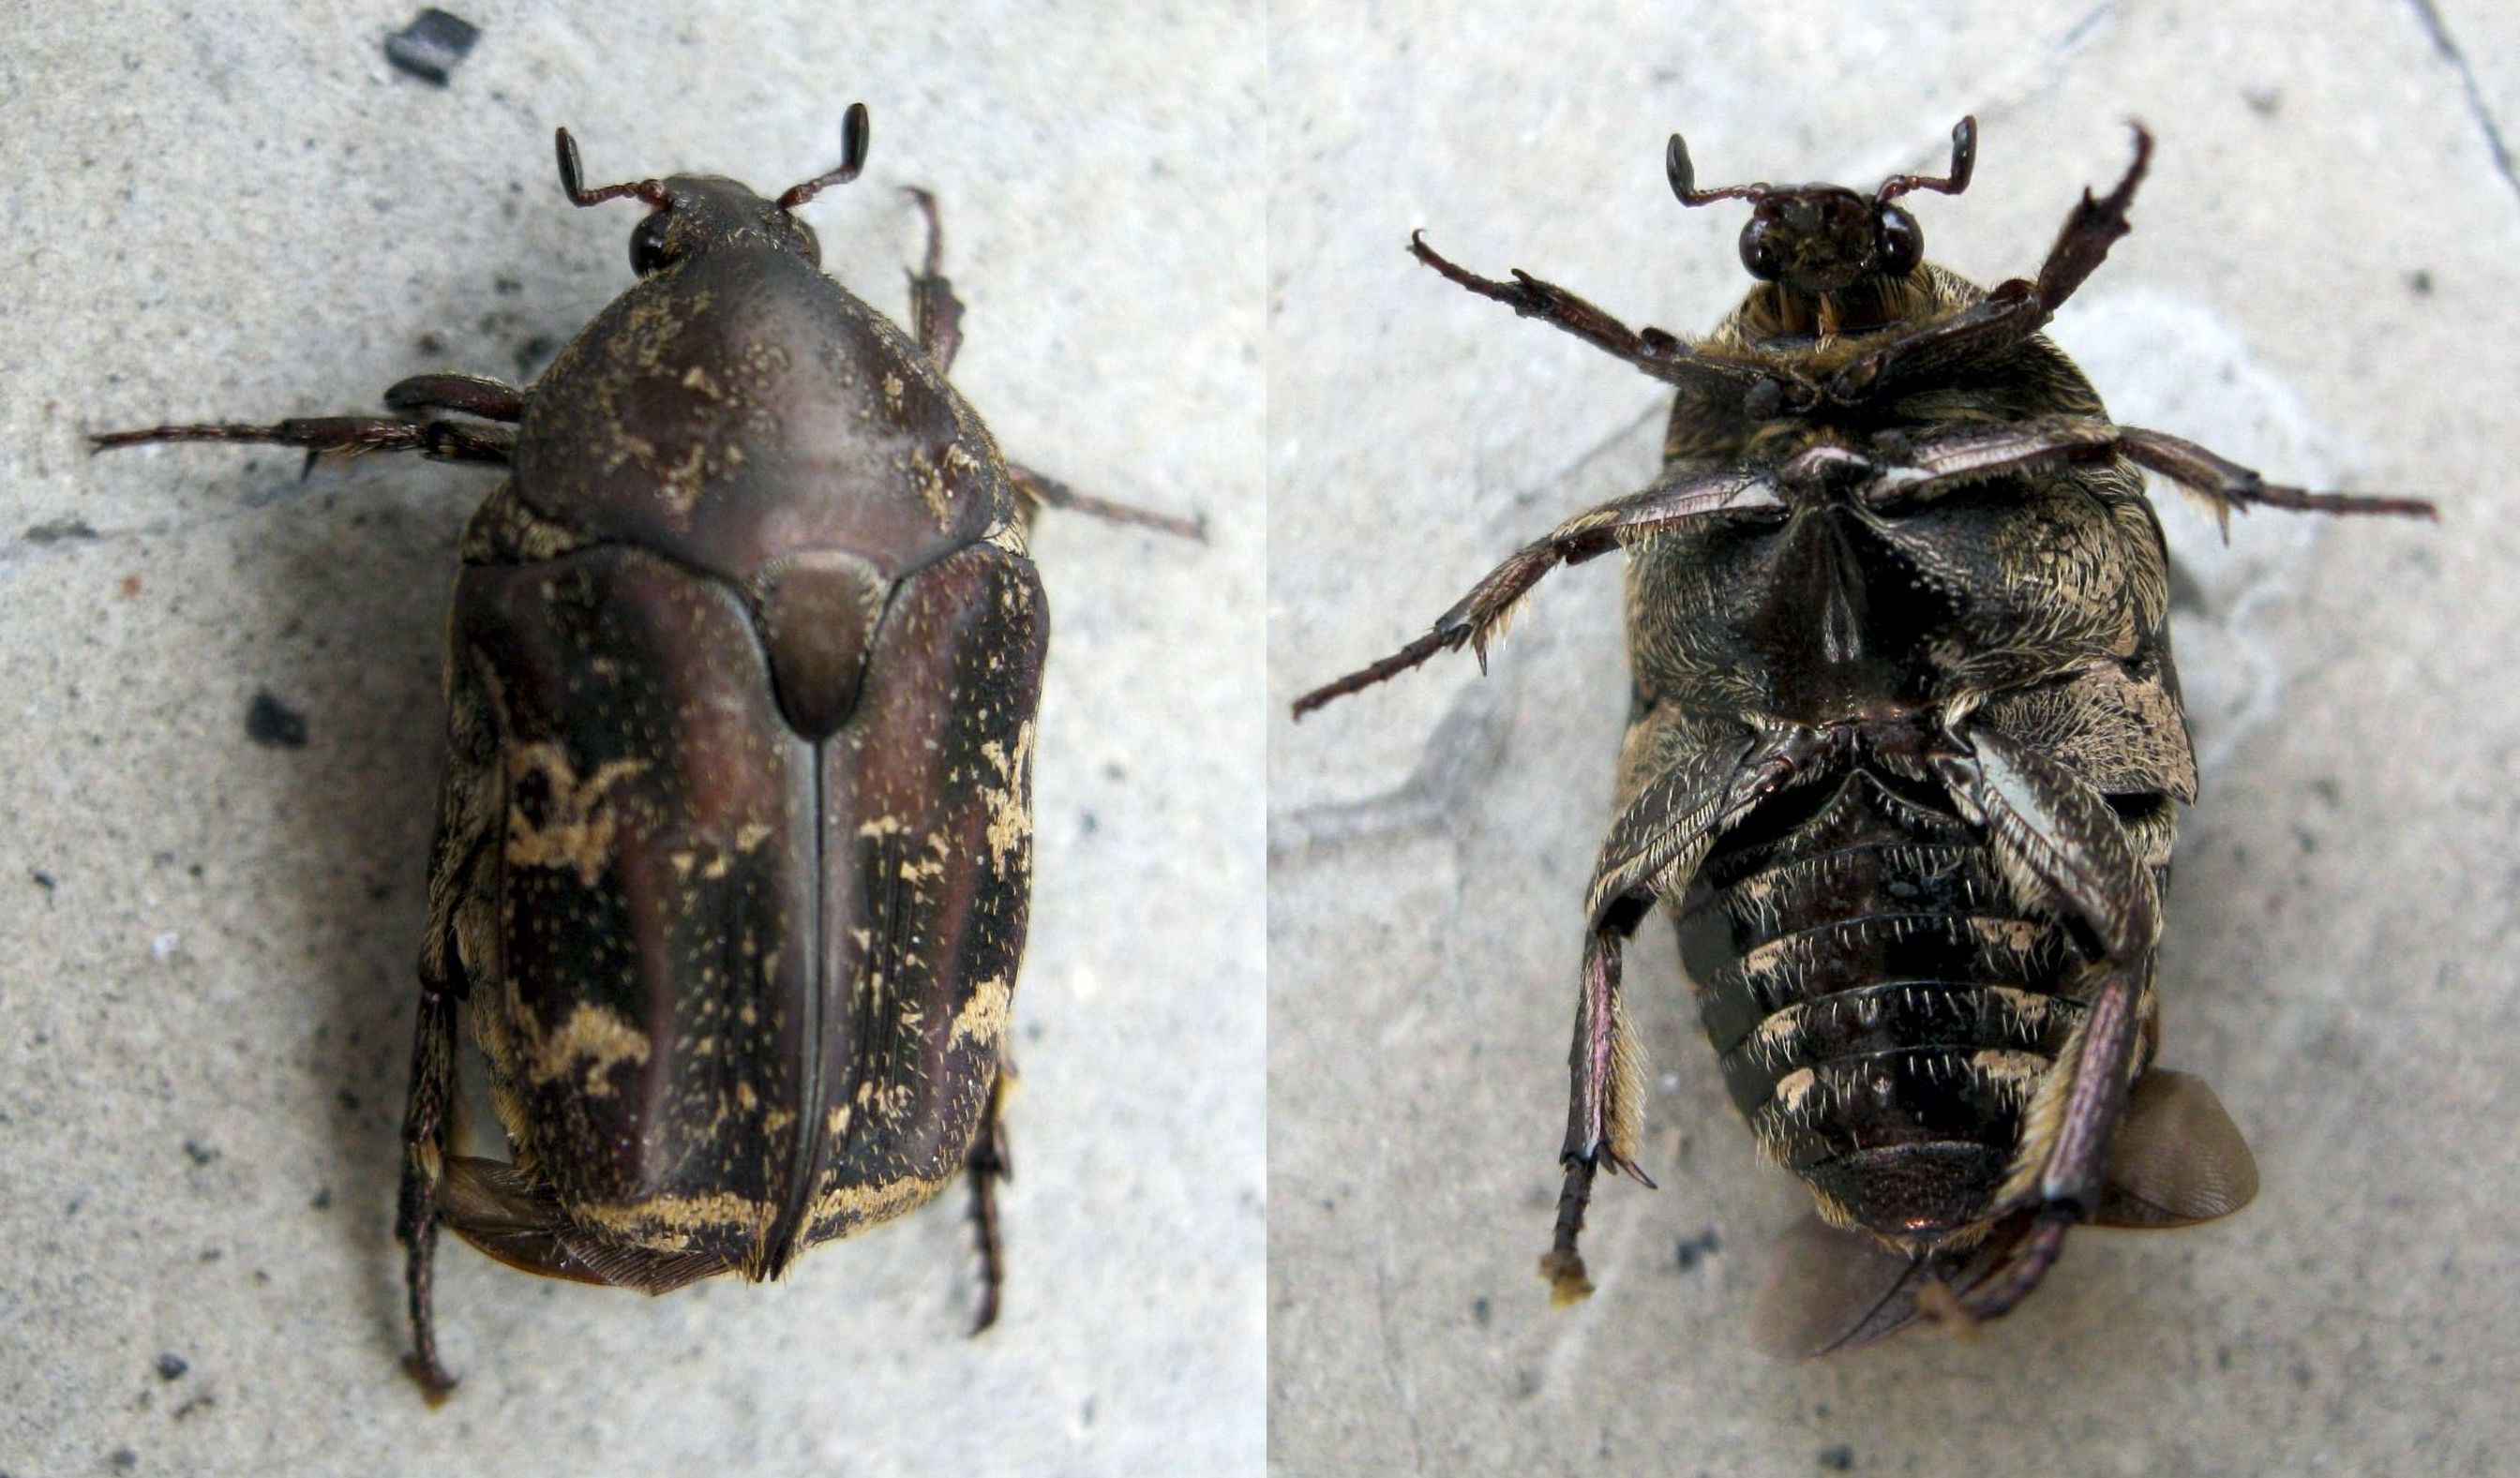Protaetia_fusca: (97, 91, 1095, 1399)
